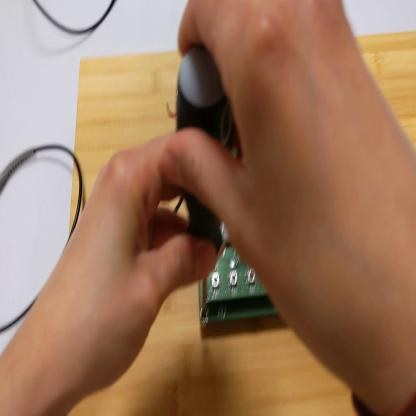hand: (208, 5, 402, 398), (42, 125, 221, 403)
low voltage board: (199, 222, 281, 336)
oscilloscope probe tip: (3, 148, 37, 193)
screwdriver-: (175, 54, 234, 323)
working area: (69, 29, 416, 414)
